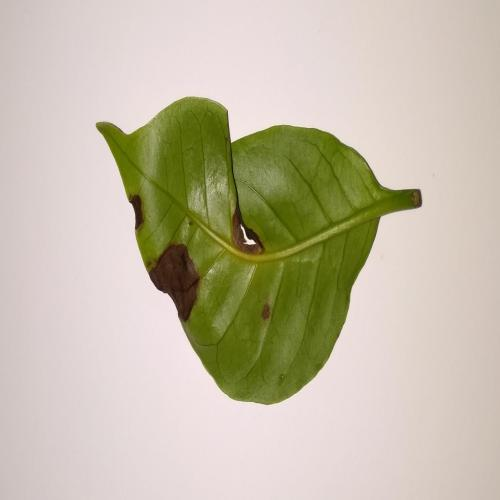miner: (128, 195, 143, 231)
